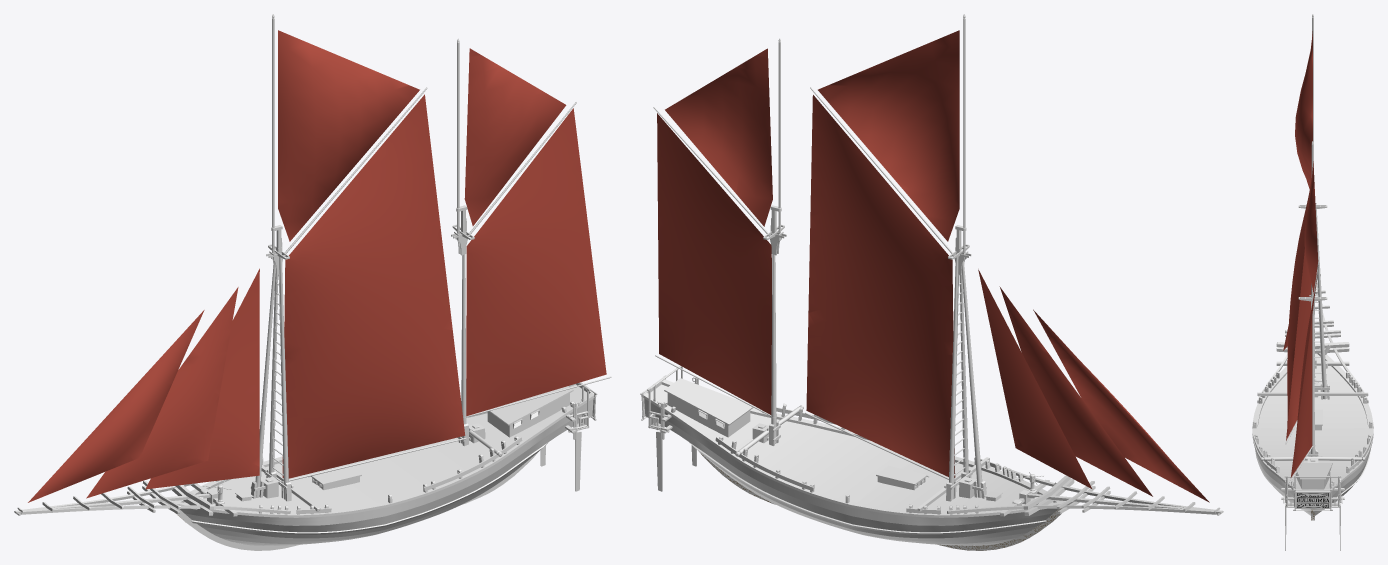
File: phinisi.glb
The picture shows the model from 3 angles, left to right: view 1: azimuth 30°, elevation 25°; view 2: azimuth 150°, elevation 25°; view 3: azimuth 270°, elevation 25°; orthographic projection. The views are drawn at different scales.
Parts seen in each view (by area): view 1: Material2.428, Material2.427, Material2.431, Material2.322, Material2.432, Material2.326, Material2.421, Material2.423, Material2.418, Material2.139, Material2.337, Material2.198 (+5 smaller); view 2: Material2.428, Material2.427, Material2.431, Material2.139, Material2.432, Material2.143, Material2.322, Material2.423, Material2.421, Material2.418, Material2.154, Material2.336 (+5 smaller); view 3: Material2.139, Material2.322, Material2.428, Material2.427, Material2.431, Material2.432, Material2.154, Material3.008, Material2.143, Material2.326, Material2.050, Material2.056 (+6 smaller).
Boxes of the visible parts, x1=… form: Material2.428: x1=282, y1=94, x2=465, y2=478; Material2.427: x1=466, y1=108, x2=606, y2=416; Material2.431: x1=278, y1=30, x2=419, y2=241; Material2.322: x1=175, y1=386, x2=594, y2=517; Material2.432: x1=464, y1=48, x2=566, y2=225; Material2.326: x1=180, y1=398, x2=593, y2=545; Material2.421: x1=86, y1=287, x2=238, y2=498; Material2.423: x1=145, y1=268, x2=259, y2=489; Material2.418: x1=28, y1=310, x2=204, y2=502; Material2.139: x1=173, y1=384, x2=581, y2=503; Material2.337: x1=279, y1=257, x2=288, y2=499; Material2.198: x1=164, y1=453, x2=537, y2=550; Material2.428: x1=806, y1=95, x2=955, y2=477; Material2.427: x1=657, y1=113, x2=771, y2=414; Material2.431: x1=818, y1=30, x2=959, y2=241; Material2.139: x1=643, y1=384, x2=1062, y2=517; Material2.432: x1=665, y1=48, x2=772, y2=226; Material2.143: x1=644, y1=398, x2=1057, y2=545; Material2.322: x1=655, y1=378, x2=1064, y2=503; Material2.423: x1=978, y1=269, x2=1091, y2=488; Material2.421: x1=999, y1=286, x2=1152, y2=496; Material2.418: x1=1033, y1=309, x2=1209, y2=502; Material2.154: x1=949, y1=257, x2=958, y2=499; Material2.336: x1=961, y1=261, x2=981, y2=497; Material2.139: x1=1313, y1=353, x2=1373, y2=491; Material2.322: x1=1252, y1=366, x2=1312, y2=491; Material2.428: x1=1286, y1=180, x2=1311, y2=440; Material2.427: x1=1290, y1=275, x2=1317, y2=477; Material2.431: x1=1295, y1=31, x2=1312, y2=189; Material2.432: x1=1304, y1=161, x2=1318, y2=293; Material2.154: x1=1315, y1=209, x2=1327, y2=399; Material3.008: x1=1295, y1=492, x2=1330, y2=508; Material2.143: x1=1315, y1=447, x2=1371, y2=515; Material2.326: x1=1254, y1=447, x2=1310, y2=515; Material2.050: x1=1311, y1=311, x2=1314, y2=456; Material2.056: x1=1316, y1=280, x2=1359, y2=386.
Size of the model in its own units: 15.33 by 13.5 by 3.49.
Materials: 7 (1 with a texture image).
